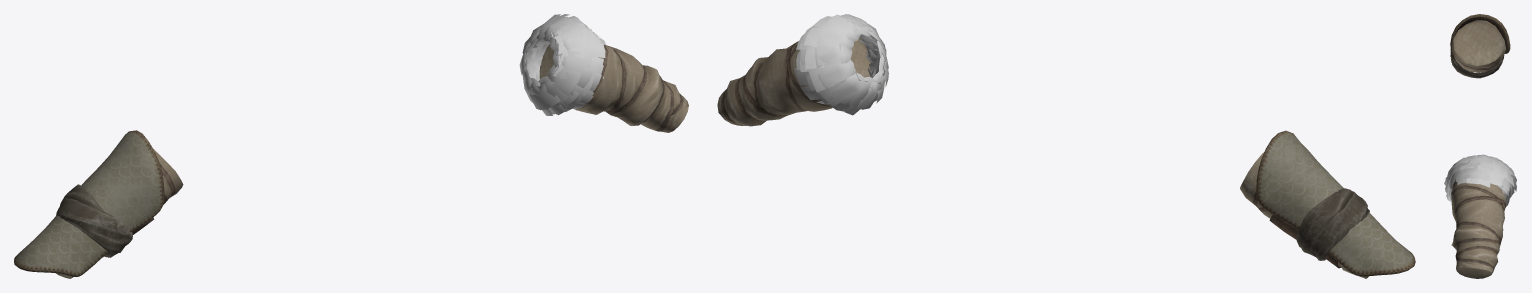
Rendered from dunland_wulf_bracer_medium_f.fbx.
The picture shows the model from 3 angles, left to right: view 1: azimuth 30°, elevation 25°; view 2: azimuth 150°, elevation 25°; view 3: azimuth 270°, elevation 25°; orthographic projection. The views are drawn at different scales.
Visible parts, largest first — view 1: dunland_wulf_bracer_medium_f.0, dunland_wulf_bracer_medium_f.1; view 2: dunland_wulf_bracer_medium_f.0, dunland_wulf_bracer_medium_f.1; view 3: dunland_wulf_bracer_medium_f.0, dunland_wulf_bracer_medium_f.1.
Part boxes in pixels (x1,y1,x2,y2): dunland_wulf_bracer_medium_f.0: (14, 44, 688, 278); dunland_wulf_bracer_medium_f.1: (519, 14, 606, 115); dunland_wulf_bracer_medium_f.0: (717, 38, 1415, 278); dunland_wulf_bracer_medium_f.1: (794, 14, 888, 115); dunland_wulf_bracer_medium_f.0: (1450, 14, 1510, 278); dunland_wulf_bracer_medium_f.1: (1444, 154, 1516, 207).
Size of the model in its own units: 1.43 by 0.1933 by 0.263.
